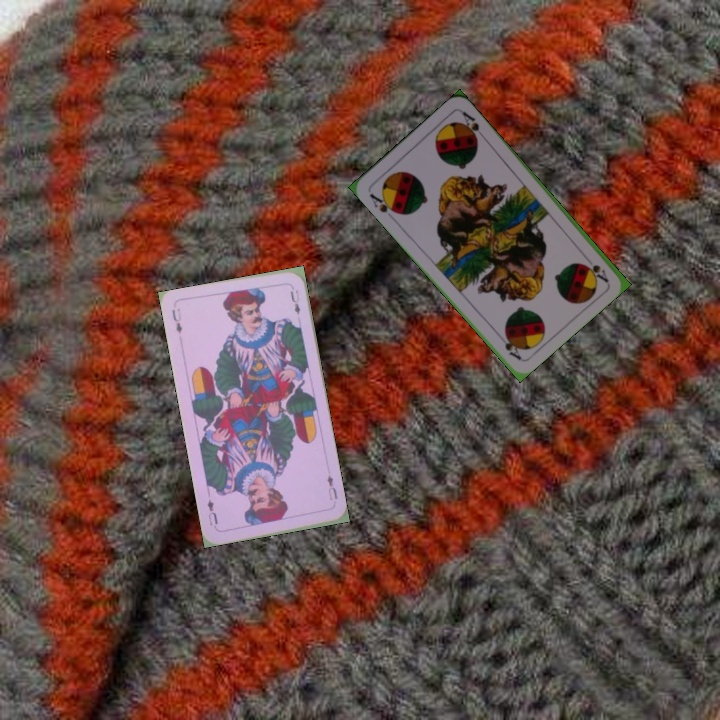EU: (323, 471, 340, 503), (168, 305, 185, 336)
SA: (365, 189, 401, 216), (584, 260, 611, 285)
